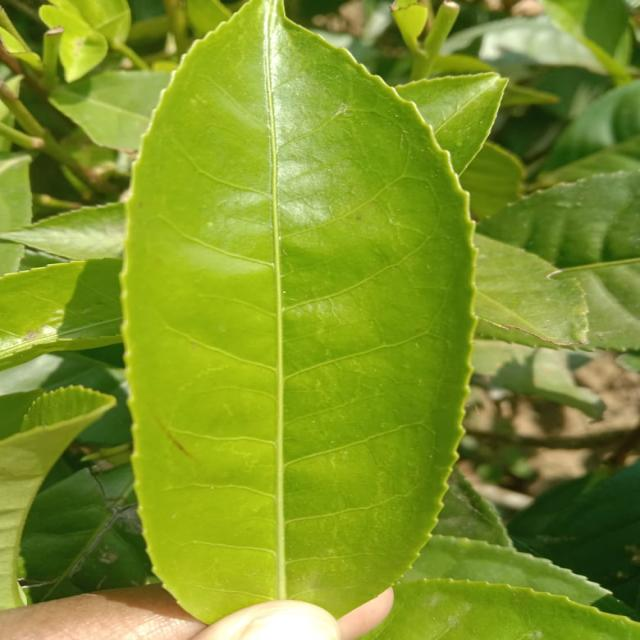Category B(2-4 days): (109, 0, 483, 637)
